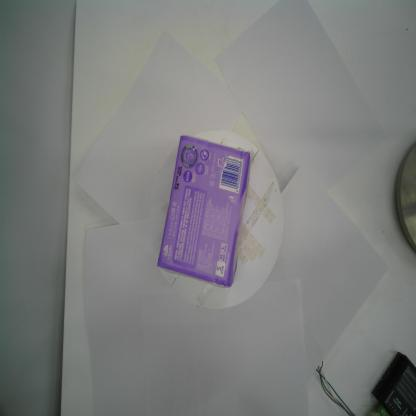Tissue: (154, 134, 252, 294)
